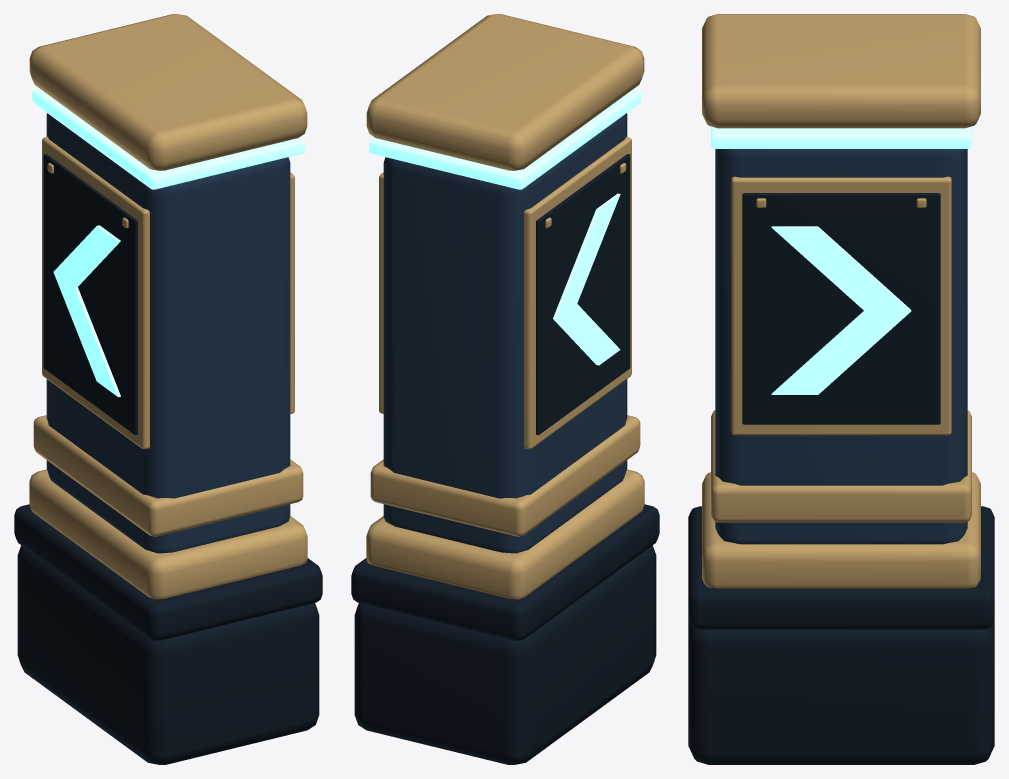
File: lumo_guide_beacon.glb
3 renders of one model, left to right at view 1: azimuth 30°, elevation 25°; view 2: azimuth 150°, elevation 25°; view 3: azimuth 270°, elevation 25°, orthographic. The views are drawn at different scales.
Parts seen in each view (by area): view 1: lumo_guide_beacon; view 2: lumo_guide_beacon; view 3: lumo_guide_beacon.
Boxes of the visible parts, x1,y1,x2,y2 form: lumo_guide_beacon: (14,14,322,764); lumo_guide_beacon: (351,14,659,764); lumo_guide_beacon: (688,14,994,764).
Bounding box in the file's own units: 0.48 × 1.66 × 0.68.
